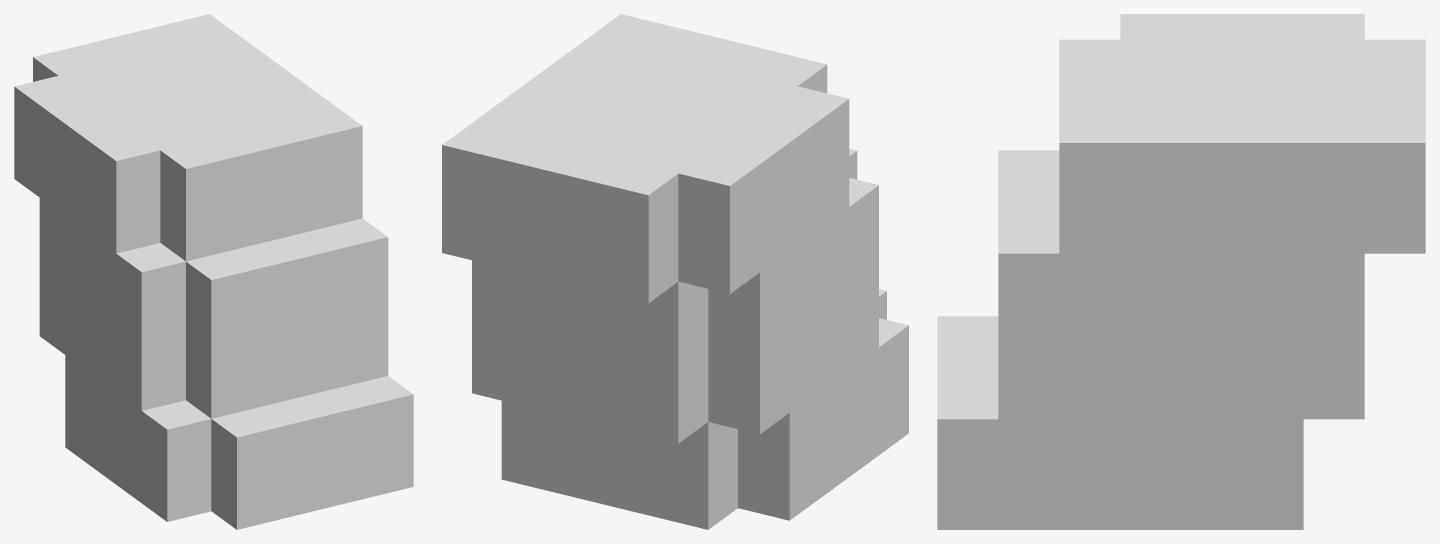
The model's file is leg1.obj.
3 views of the same model, side by side, from view 1: azimuth 30°, elevation 25°; view 2: azimuth 150°, elevation 25°; view 3: azimuth 270°, elevation 25° (orthographic). The views are drawn at different scales.
Size of the model in its own units: 5 by 7 by 8.
Materials: 1 (1 with a texture image).
